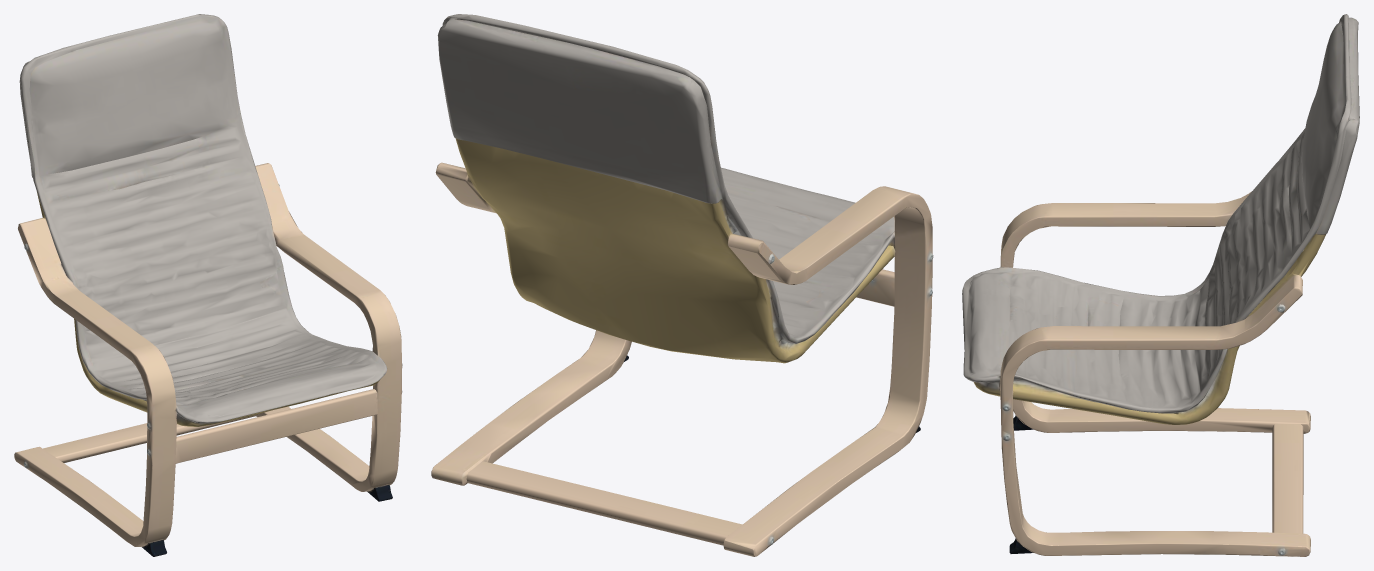
File: poang_fotelik_dzieciecy_49412561.glb
3 renders of one model, left to right at view 1: azimuth 30°, elevation 25°; view 2: azimuth 150°, elevation 25°; view 3: azimuth 270°, elevation 25°, orthographic. The views are drawn at different scales.
Visible parts, largest first — view 1: poang_fotelik_dzieciecy_49412561; view 2: poang_fotelik_dzieciecy_49412561; view 3: poang_fotelik_dzieciecy_49412561.
Part boxes in pixels (left/top/right/bottom): poang_fotelik_dzieciecy_49412561: left=14, top=14, right=402, bottom=556; poang_fotelik_dzieciecy_49412561: left=431, top=14, right=933, bottom=556; poang_fotelik_dzieciecy_49412561: left=962, top=14, right=1359, bottom=556.
Bounding box in the file's own units: 0.4786 × 0.6968 × 0.5822.
2 materials, 2 textured.
